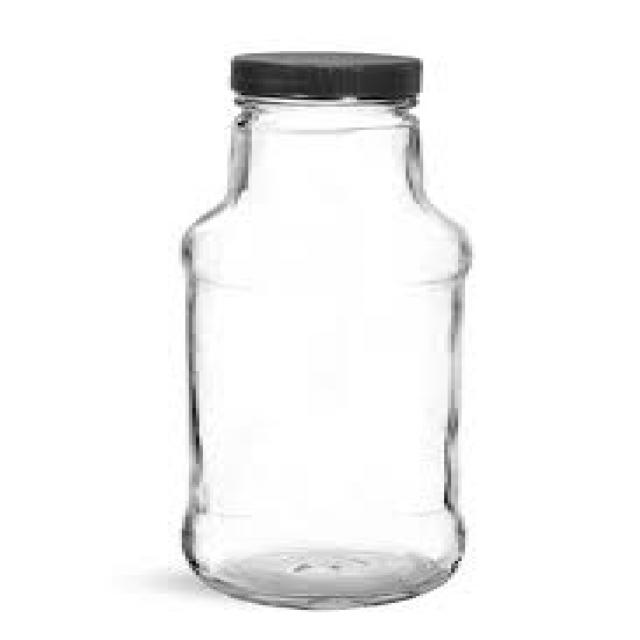Glass-Non-Biodegradable but Recyclable-: (181, 59, 471, 619)
